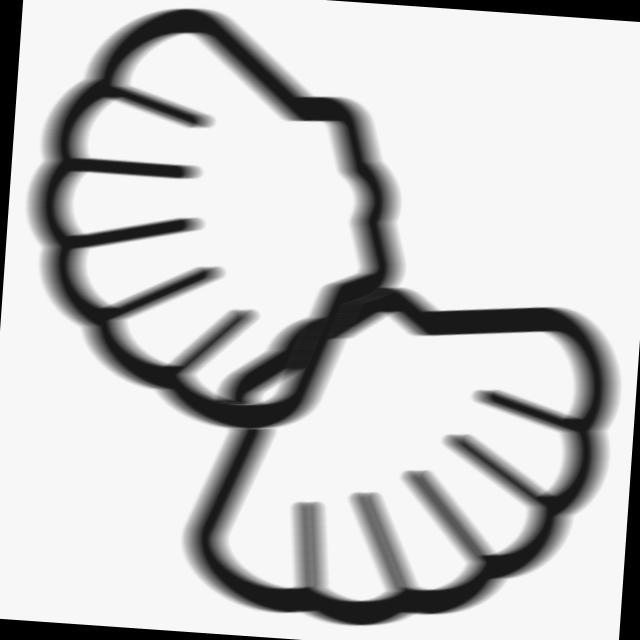shell: (1, 1, 442, 452), (164, 247, 637, 640)
